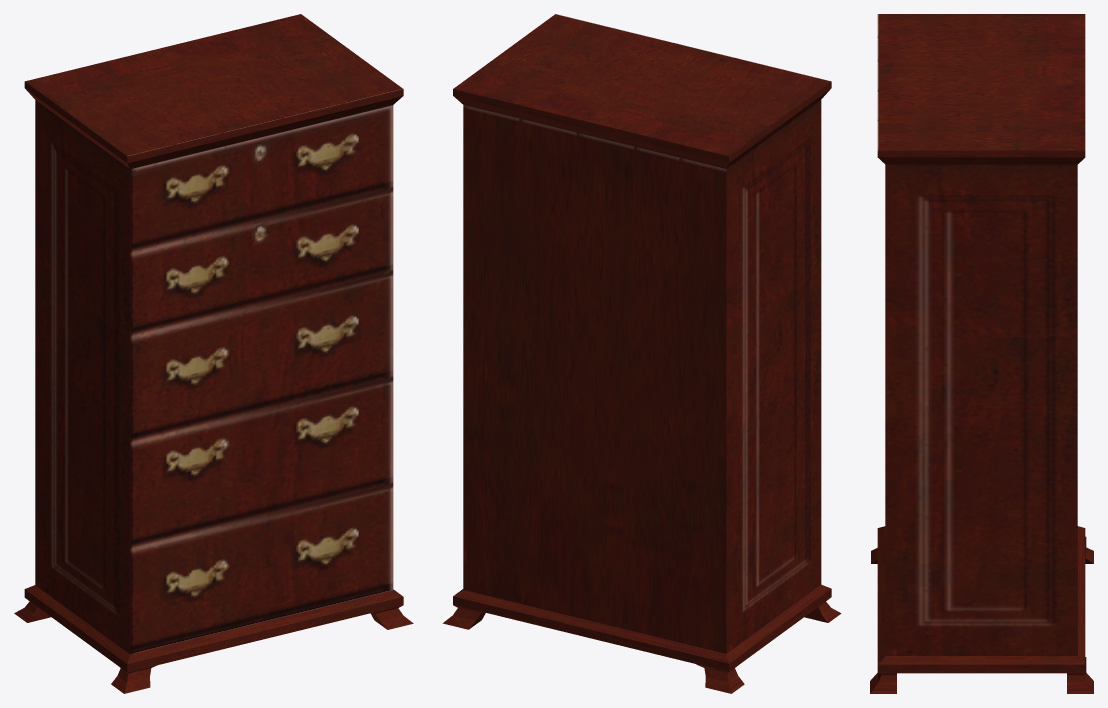
File: dresser01.fbx
3 renders of one model, left to right at view 1: azimuth 30°, elevation 25°; view 2: azimuth 150°, elevation 25°; view 3: azimuth 270°, elevation 25°, orthographic.
Parts seen in each view (by area): view 1: mesh_0; view 2: mesh_0; view 3: mesh_0.
Part boxes in pixels (box(x1,y1,x2,y2)): mesh_0: box(14, 14, 413, 693); mesh_0: box(442, 14, 841, 693); mesh_0: box(870, 14, 1093, 693).
Bounding box in the file's own units: 88 × 155 × 58.19.
Materials: 1 (1 with a texture image).
